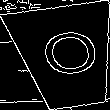O_S: (33, 28, 100, 86)
